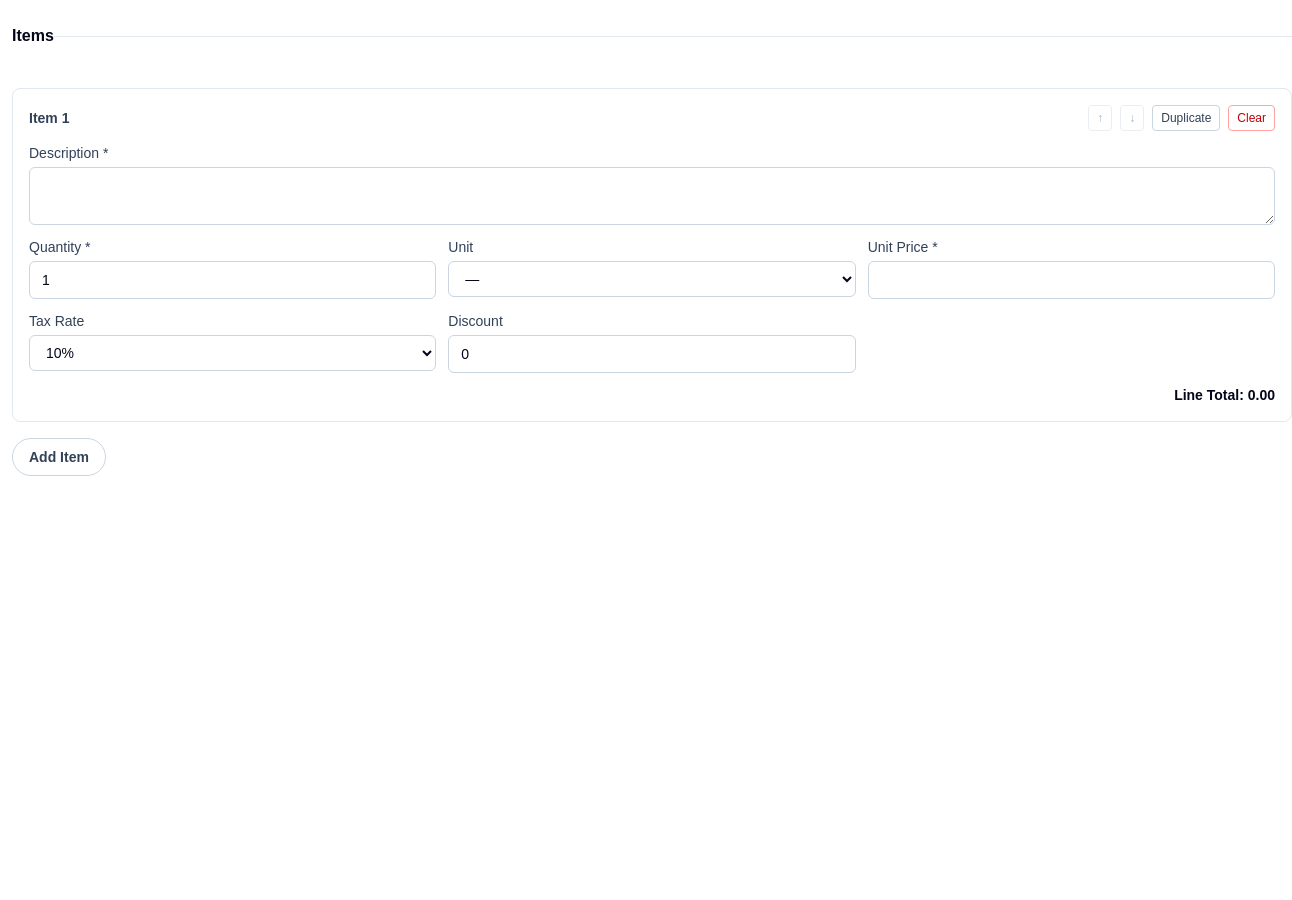
Test case: LineItemsSection › duplicates a row's values into a new row directly after it
Type "Consulting" into the text box labelled "Description" at (652, 196), box [29, 167, 1275, 225]
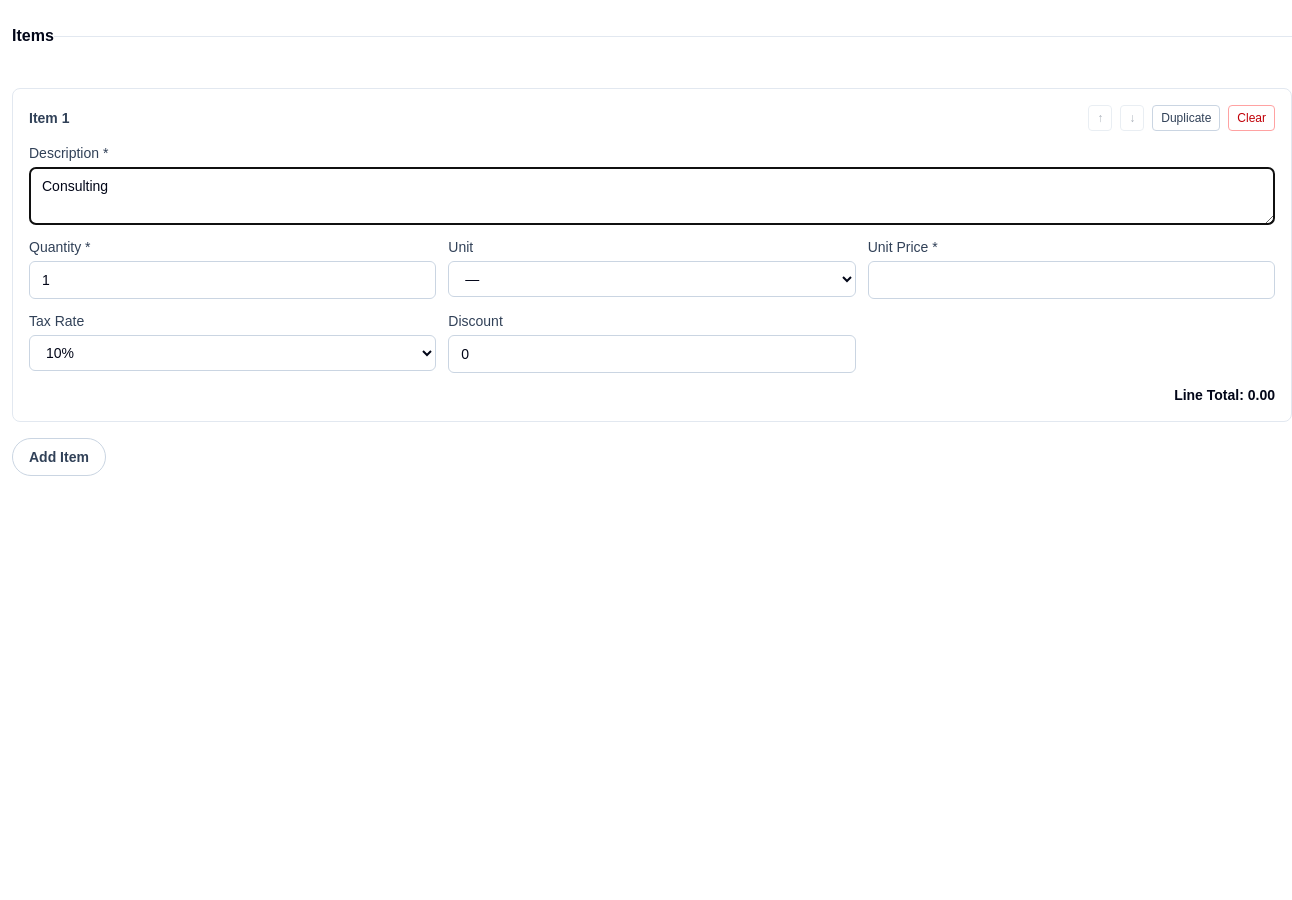
Click the button with aria-label "Duplicate item 1" at (1186, 118), box [1152, 105, 1220, 131]
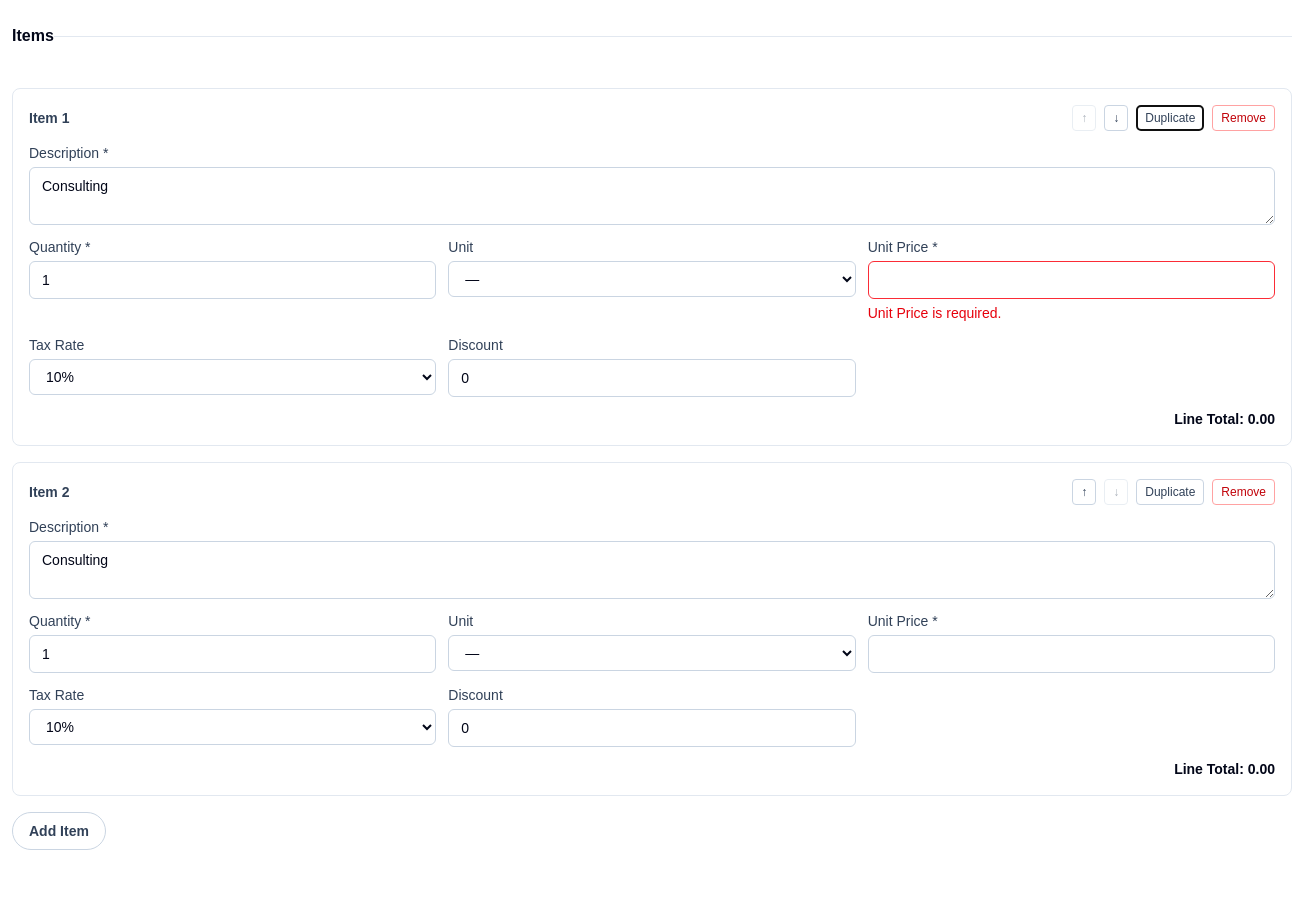
Check: the number of text boxes labelled "Description" is 2, box [29, 167, 1275, 225]; [29, 541, 1275, 599]
Check: the 2nd text box labelled "Description" holds "Consulting", box [29, 541, 1275, 599]
